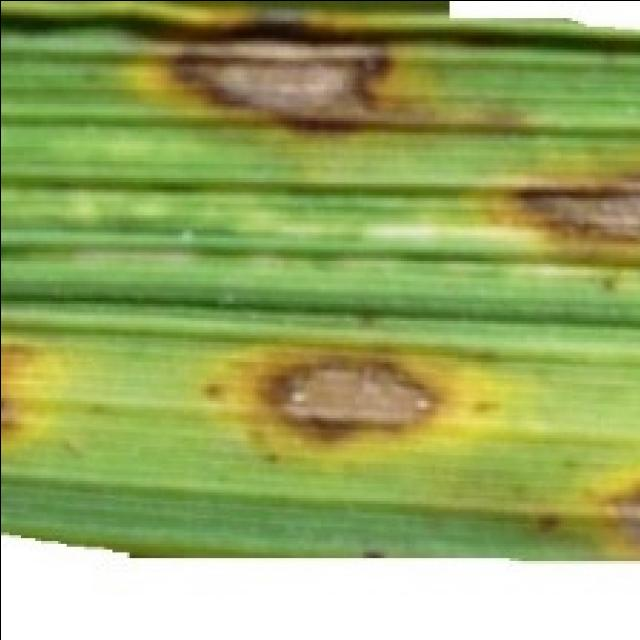Unhealthy: (114, 9, 539, 137), (194, 342, 506, 468), (502, 172, 640, 254), (0, 331, 54, 454), (600, 468, 640, 557), (528, 509, 564, 547)
